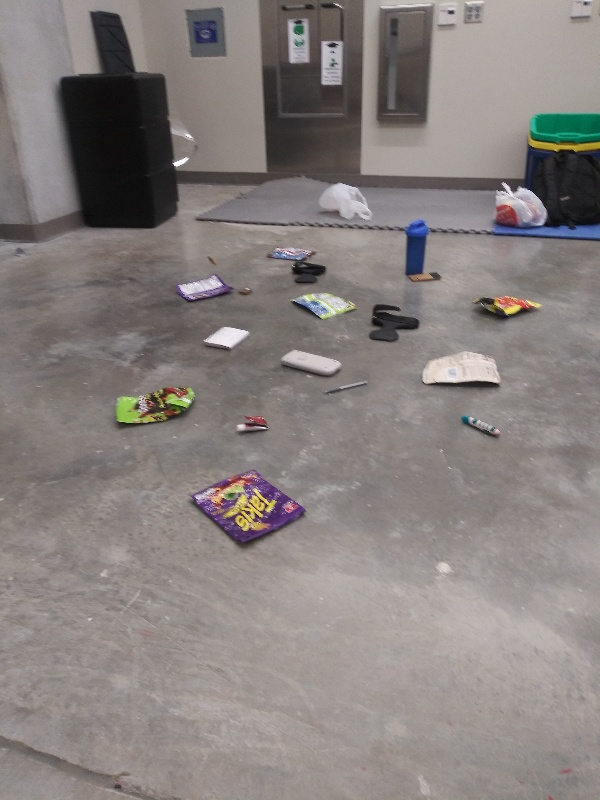bag: (187, 468, 310, 551), (107, 384, 204, 428), (417, 349, 507, 393), (466, 290, 547, 323), (286, 288, 362, 323), (171, 271, 237, 303), (263, 244, 321, 263)
